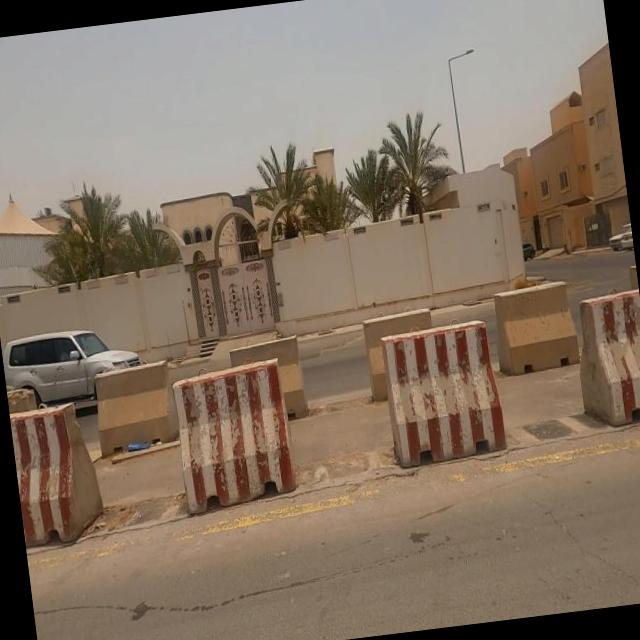debris: (104, 398, 176, 498)
